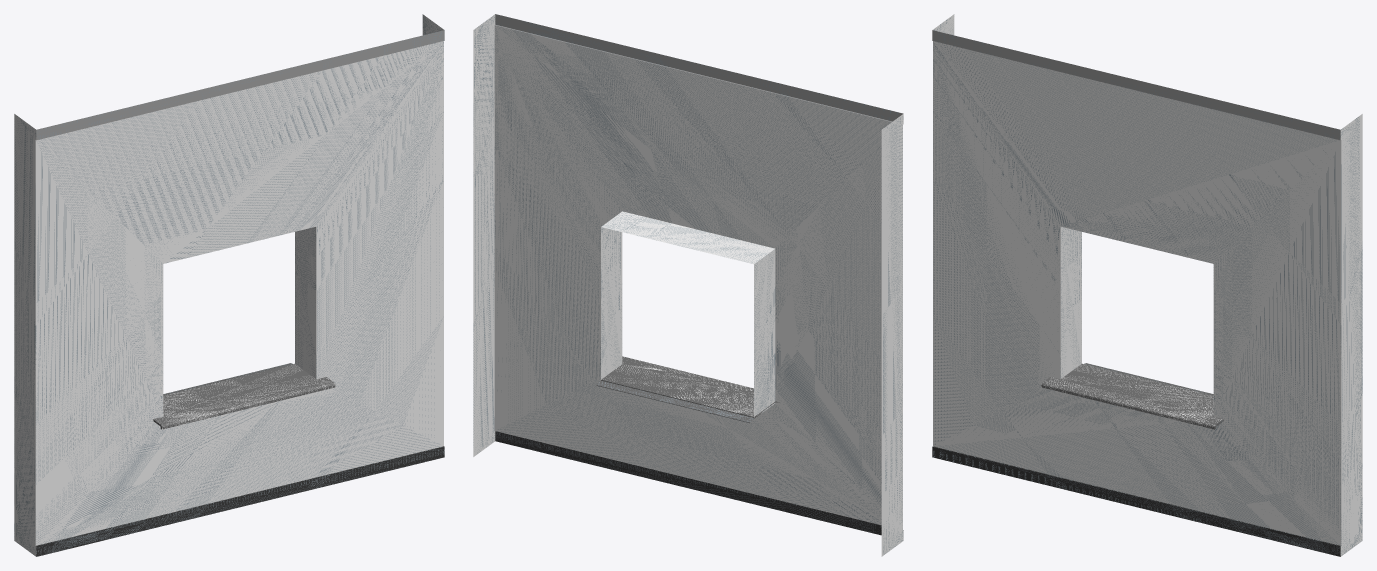
Rendered from WindowBlock_os_plinth_[400x400]_150x143x[100].dae.
3 views of the same model, side by side, from view 1: azimuth 30°, elevation 25°; view 2: azimuth 150°, elevation 25°; view 3: azimuth 330°, elevation 25° (orthographic).
Visible parts, largest first — view 1: group_2 (×4), group_1; view 2: group_2 (×4), group_1 (×2); view 3: group_2 (×4), group_1.
Part boxes in pixels (x1,y1,x2,y2): group_2 (×4): (14,14,444,556); group_1: (153,363,335,429); group_2 (×4): (473,14,903,556); group_1 (×2): (596,356,779,422); group_2 (×4): (932,14,1362,556); group_1: (1041,363,1223,429).
Size of the model in its own units: 157 by 23.03 by 157.
